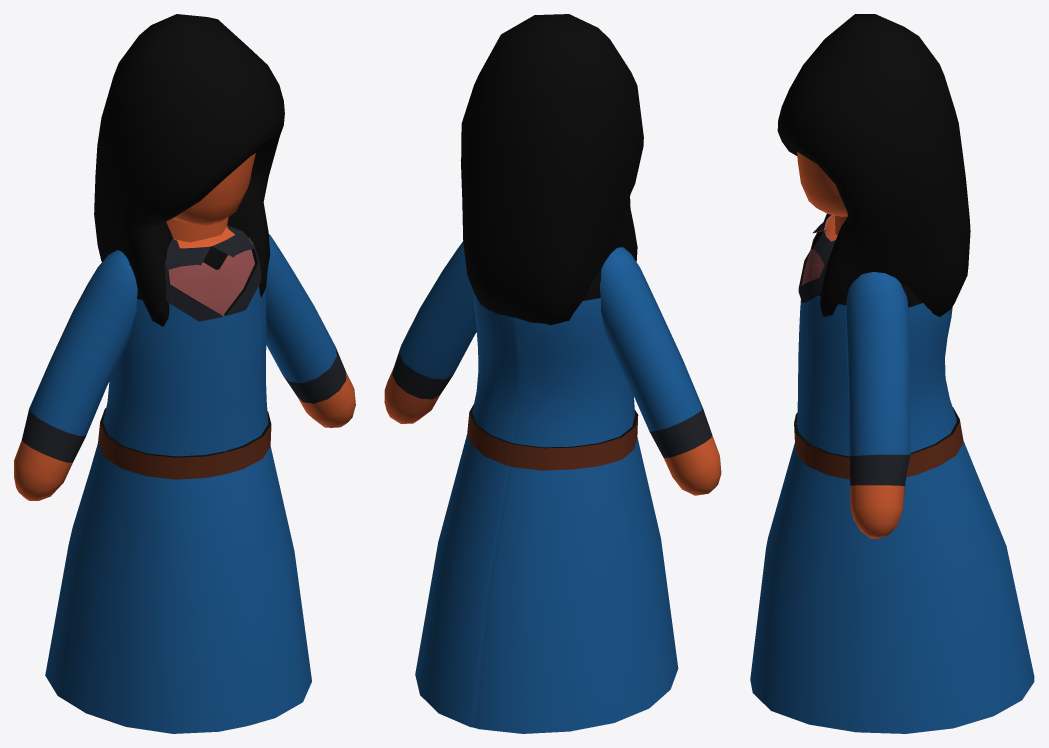
File: human kleur.FBX
3 renders of one model, left to right at view 1: azimuth 30°, elevation 25°; view 2: azimuth 150°, elevation 25°; view 3: azimuth 270°, elevation 25°, orthographic.
Visible parts, largest first — view 1: Object001, human1; view 2: Object001, human1; view 3: Object001, human1.
Part boxes in pixels (x1,y1,x2,y2): Object001: (45, 225, 311, 733); human1: (14, 14, 355, 500); Object001: (415, 248, 678, 733); human1: (384, 14, 721, 495); Object001: (750, 215, 1034, 733); human1: (777, 14, 970, 538).
Size of the model in its own units: 26.57 by 19.59 by 49.97.
